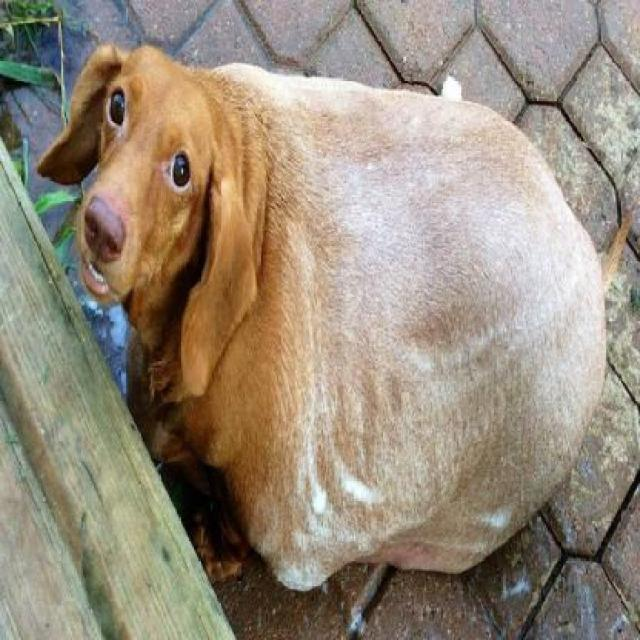Dog: (32, 28, 612, 597)
